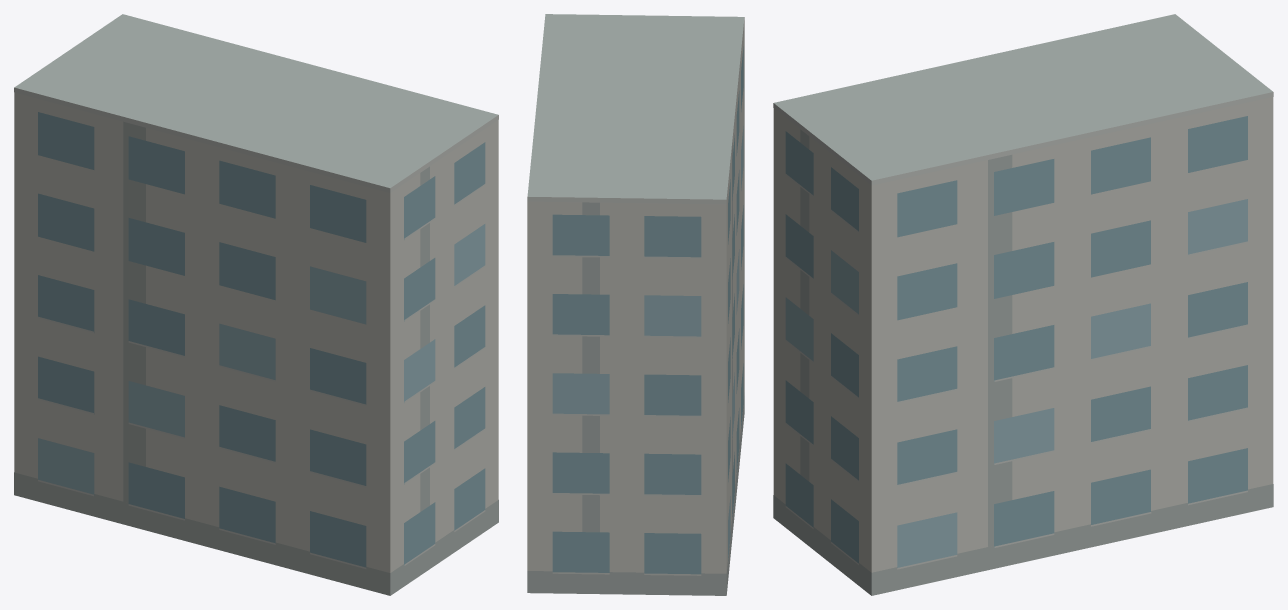
Rendered from survey-upis-32944644.glb.
3 views of the same model, side by side, from view 1: azimuth 30°, elevation 25°; view 2: azimuth 150°, elevation 25°; view 3: azimuth 270°, elevation 25° (orthographic). The views are drawn at different scales.
Visible parts, largest first — view 1: survey-upis-32944644.tmp; view 2: survey-upis-32944644.tmp; view 3: survey-upis-32944644.tmp.
Part boxes in pixels (x1,y1,x2,y2): survey-upis-32944644.tmp: (14,14,498,595); survey-upis-32944644.tmp: (527,14,744,595); survey-upis-32944644.tmp: (773,14,1273,595).
Size of the model in its own units: 17.32 by 20.1 by 21.95.
